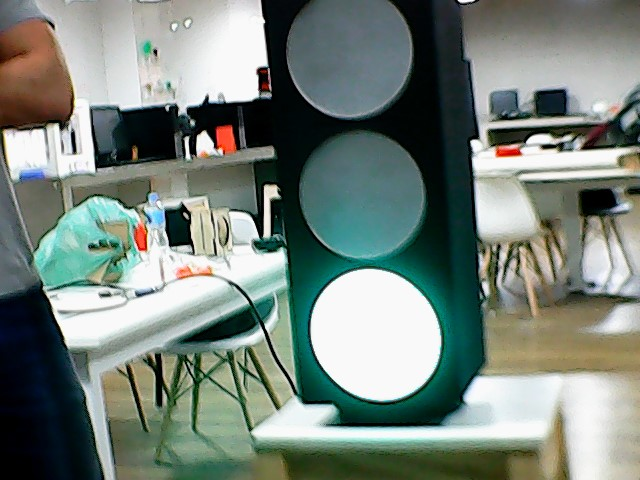verde: (259, 1, 488, 410)
